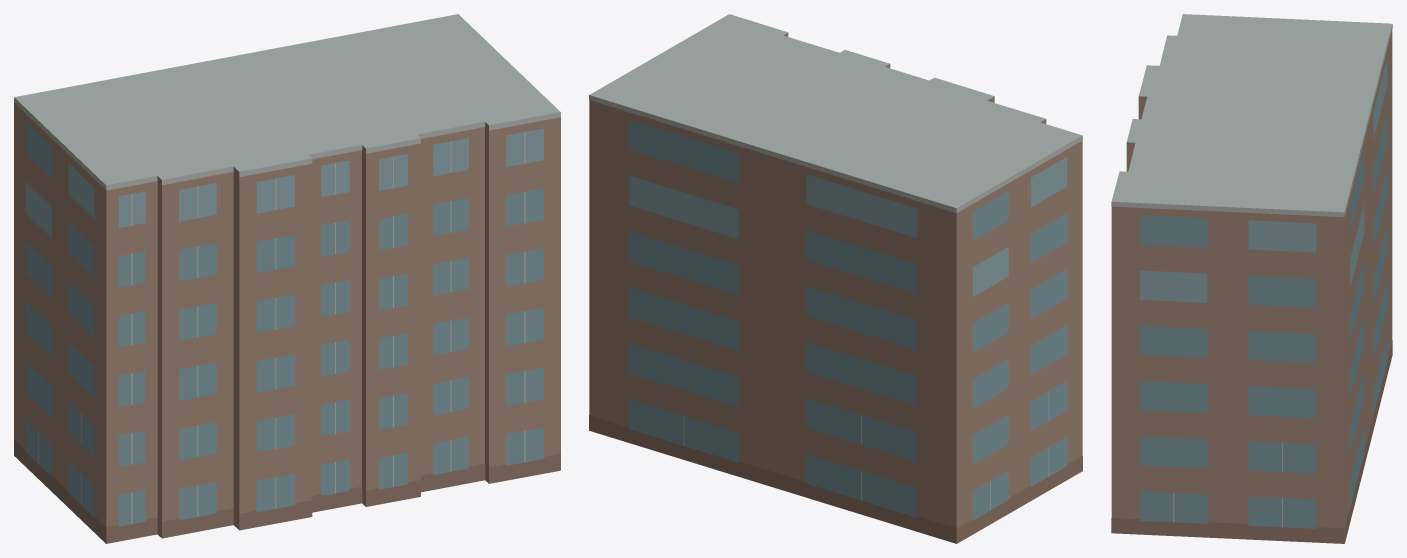
The model's file is survey-upis-32704168.glb.
The picture shows the model from 3 angles, left to right: view 1: azimuth 30°, elevation 25°; view 2: azimuth 150°, elevation 25°; view 3: azimuth 270°, elevation 25°; orthographic projection. The views are drawn at different scales.
Parts seen in each view (by area): view 1: survey-upis-32704168.tmp; view 2: survey-upis-32704168.tmp; view 3: survey-upis-32704168.tmp.
Boxes of the visible parts, x1,y1,x2,y2 form: survey-upis-32704168.tmp: (14,14,560,543); survey-upis-32704168.tmp: (589,14,1082,543); survey-upis-32704168.tmp: (1111,14,1392,543).
Size of the model in its own units: 21.32 by 16.6 by 12.76.
